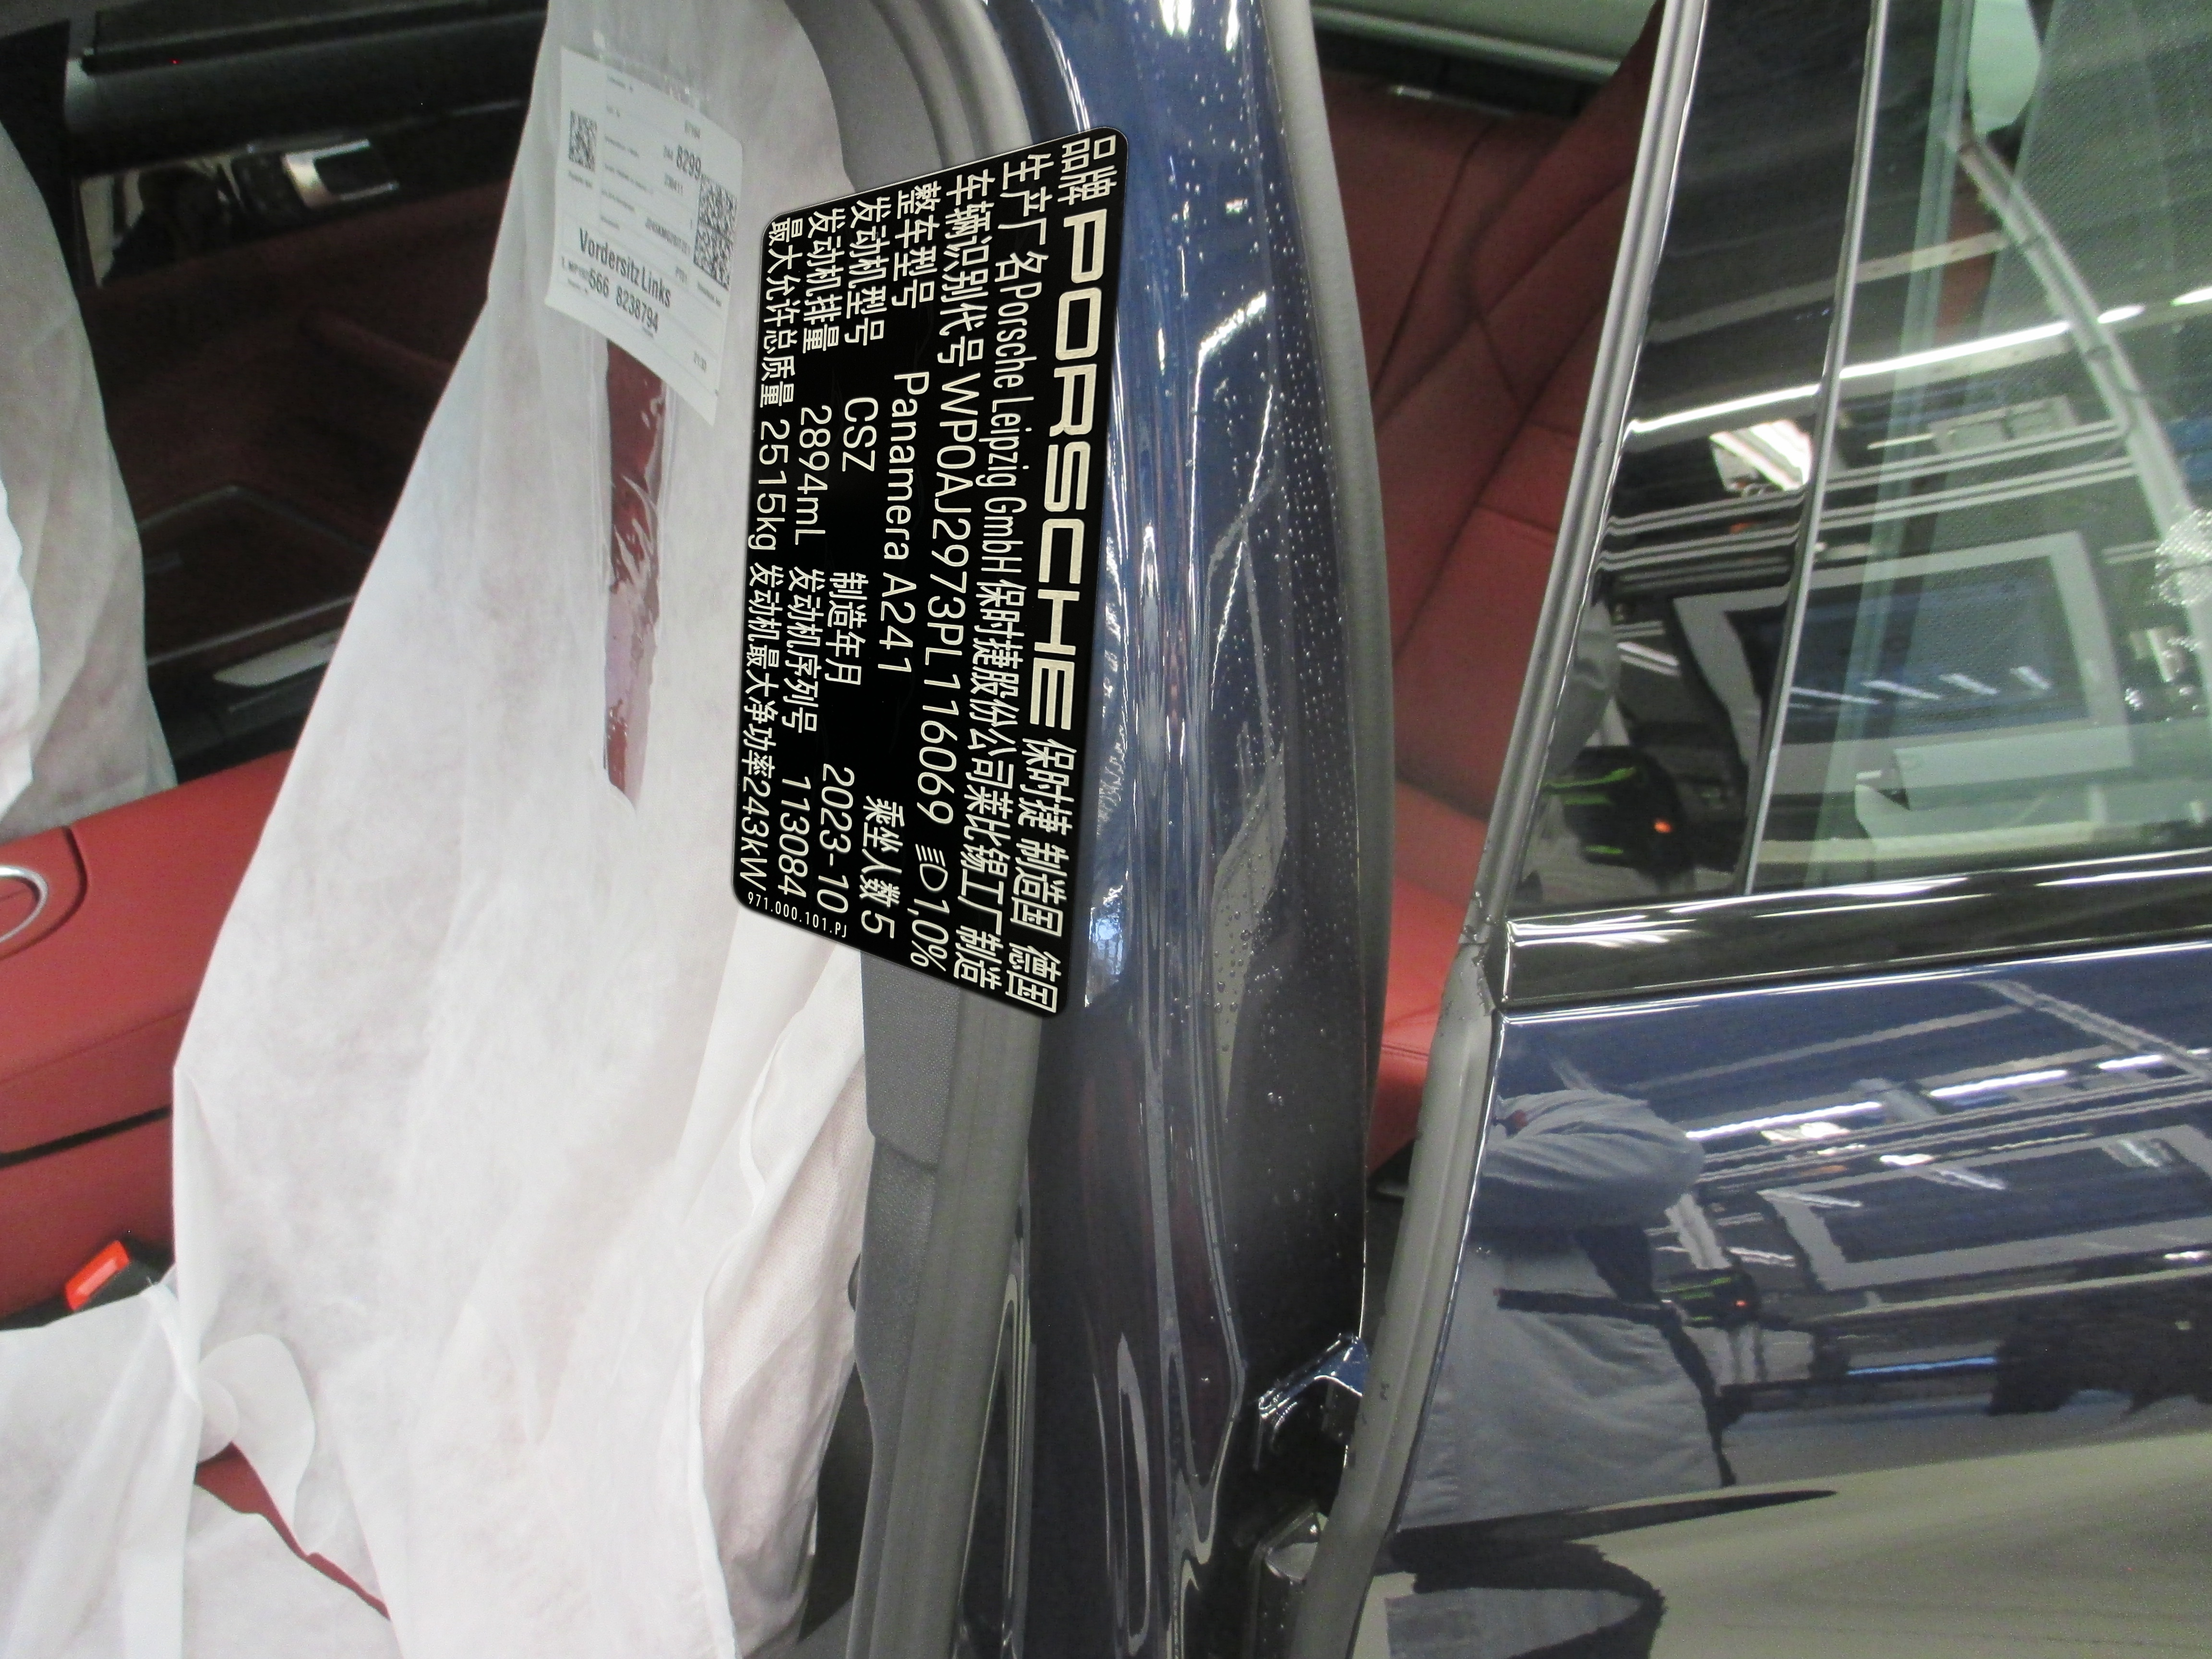Typlabel-China: (732, 127, 1127, 1018)
